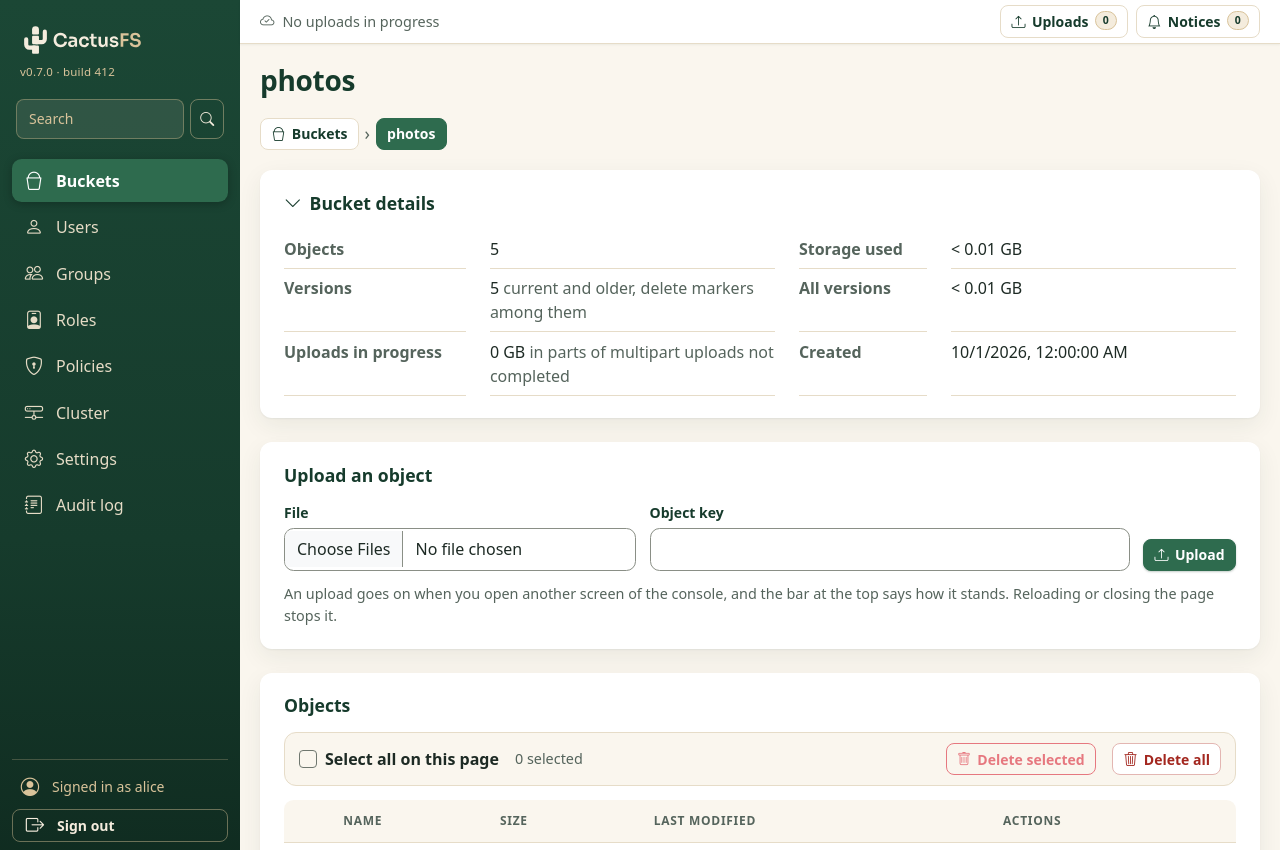
Test: "Delete all" › deletes nothing at too many attempts, and says so
Check: the heading "photos" is shown, box [260, 61, 355, 99]
Step 1. Click the button "Delete all" → (1167, 759), box [1112, 743, 1221, 775]
(page scrolled)
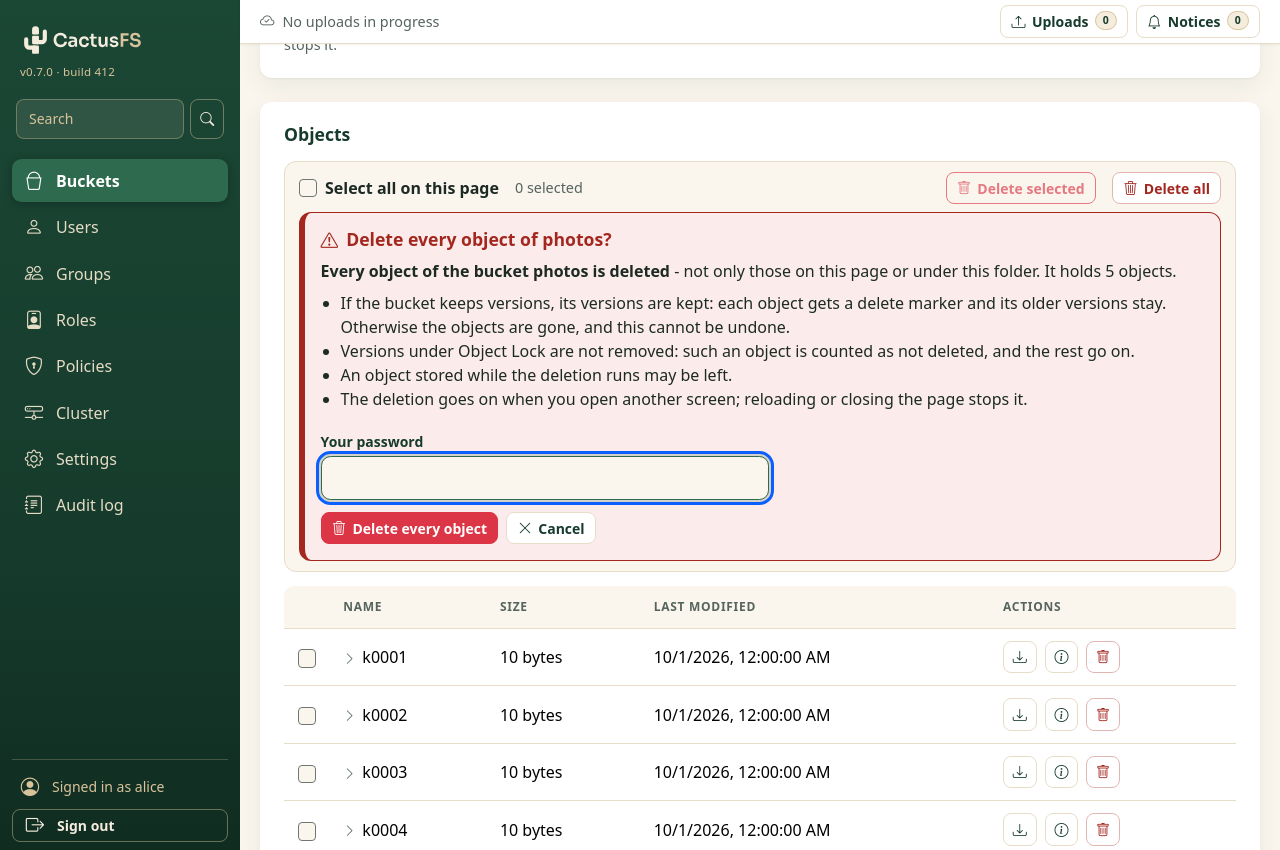
Step 2. Type "not the password" into the password field labelled "Your password" → (545, 478), box [321, 456, 769, 500]
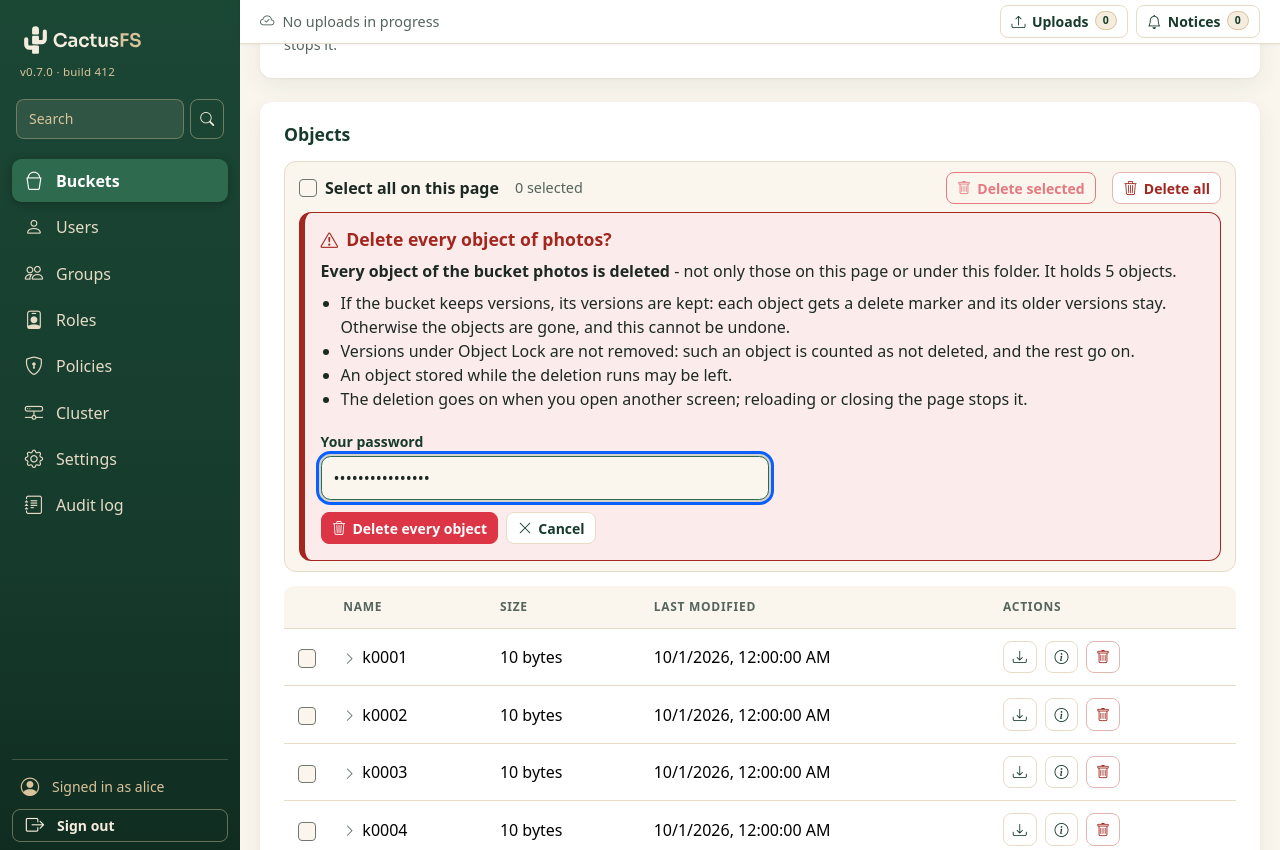
Step 3. Submit the form "Delete every object", box [321, 418, 769, 544]
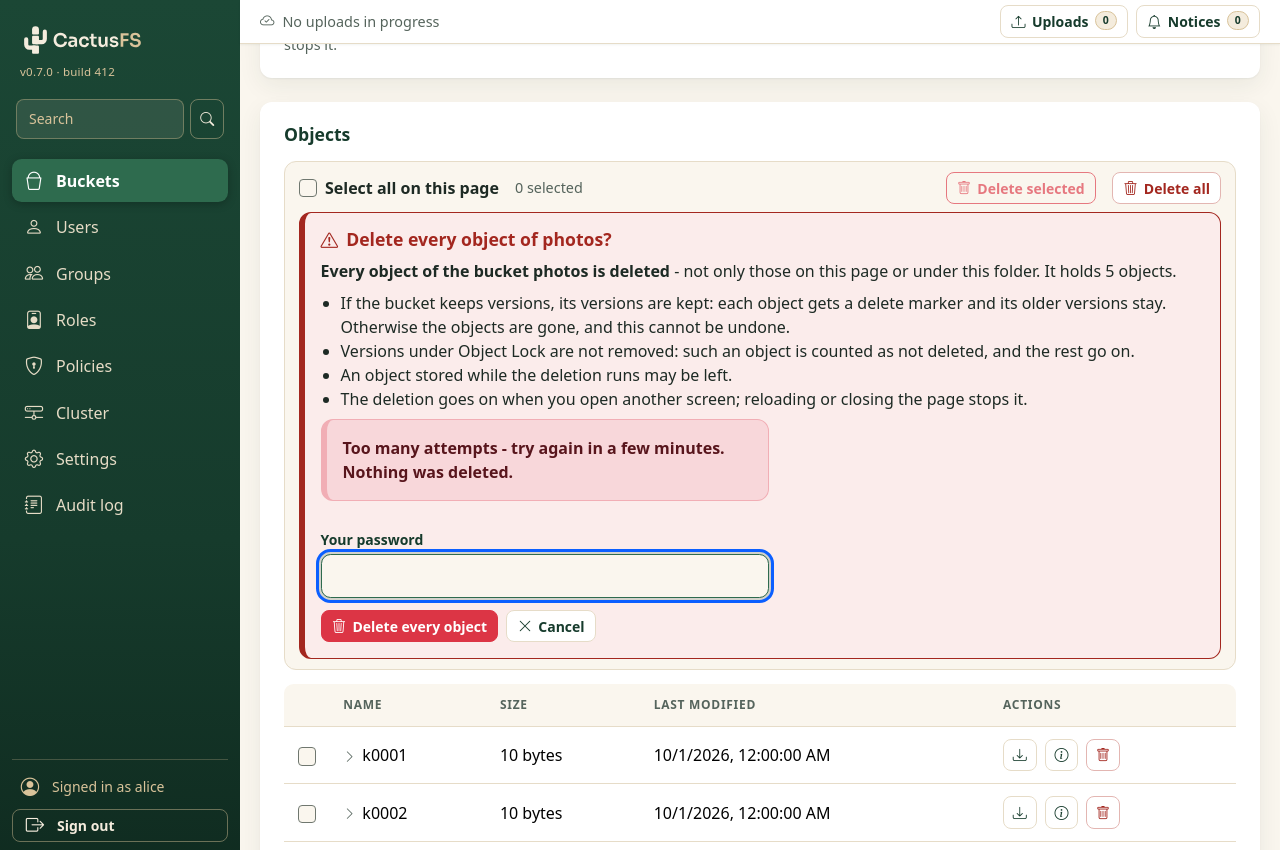
Check: the dialog "Delete every object of " is shown, box [299, 212, 1221, 660]
Check: the message reads "Too many attempts - try again in a few minutes. Nothing was deleted.", box [343, 436, 725, 482]
Check: the password field labelled "Your password" is empty, box [321, 554, 769, 598]
